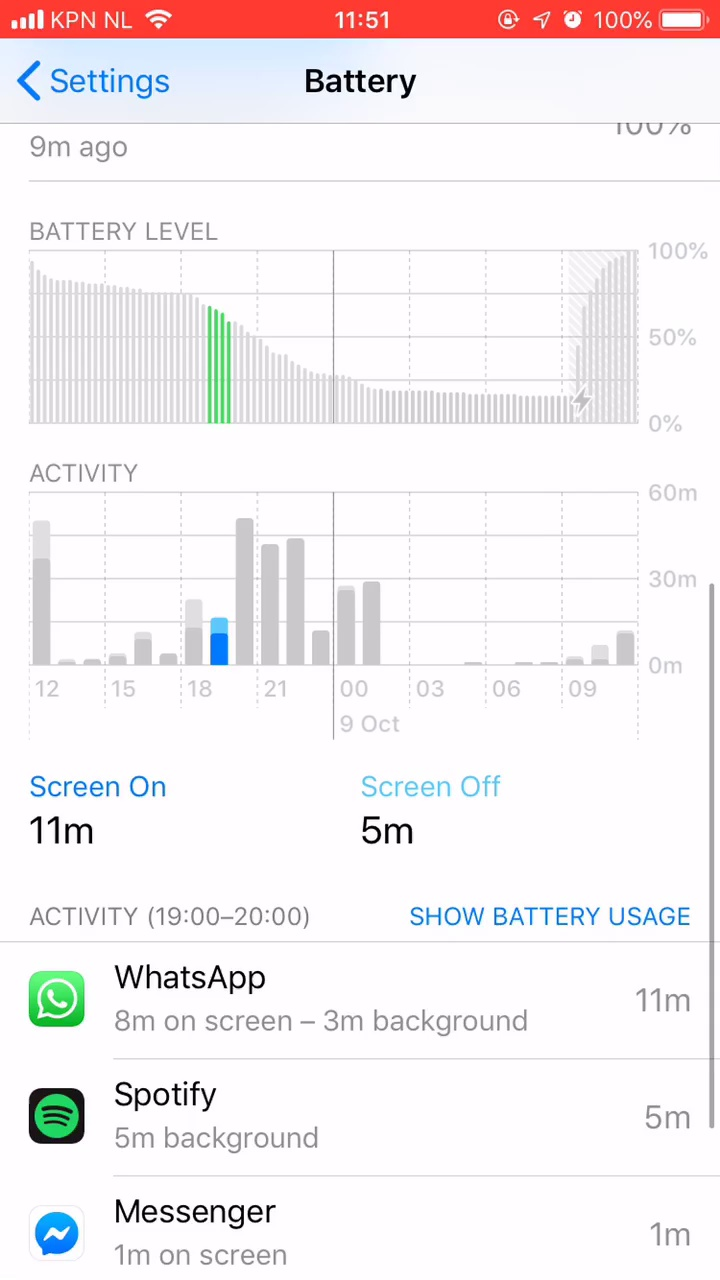activity: (23, 892, 335, 931)
app: (23, 959, 700, 1045), (24, 1072, 701, 1158), (29, 1186, 706, 1272)
